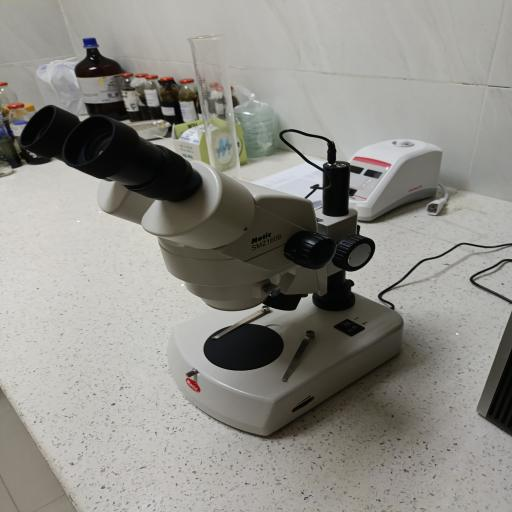Microscopio_estereo: (7, 86, 436, 444)
